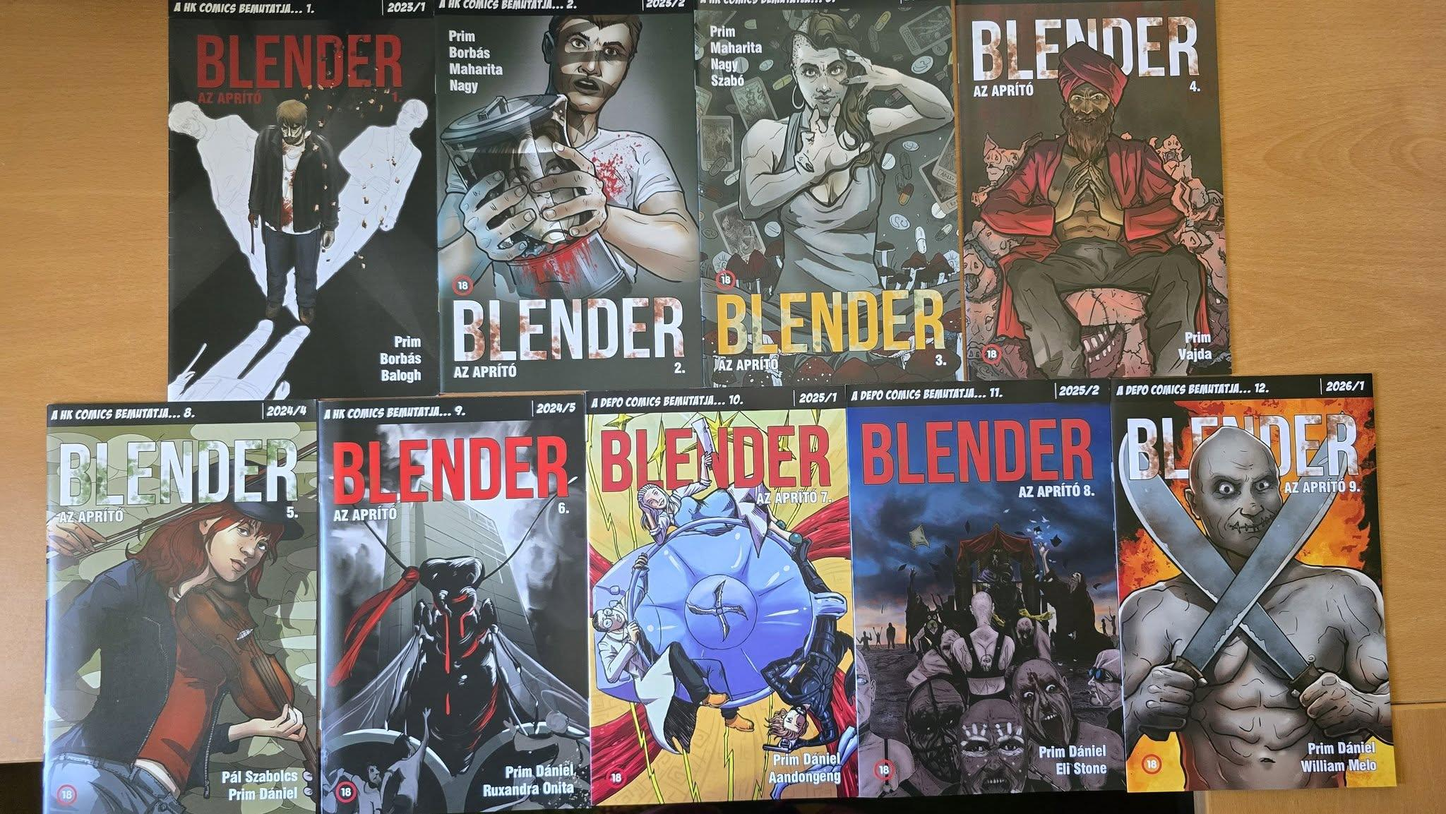comic: (1108, 369, 1394, 797), (579, 384, 859, 806), (847, 378, 1125, 799), (318, 395, 590, 814), (44, 401, 318, 813), (167, 0, 438, 400), (432, 0, 703, 392), (693, 0, 963, 388), (956, 0, 1230, 381)
